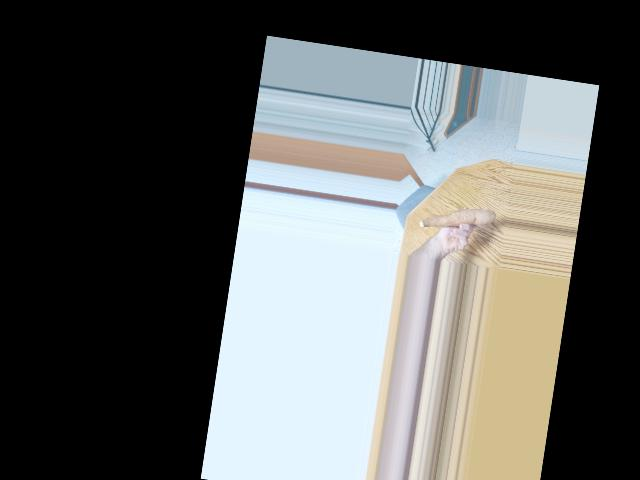sweet_potato: (419, 196, 494, 242)
